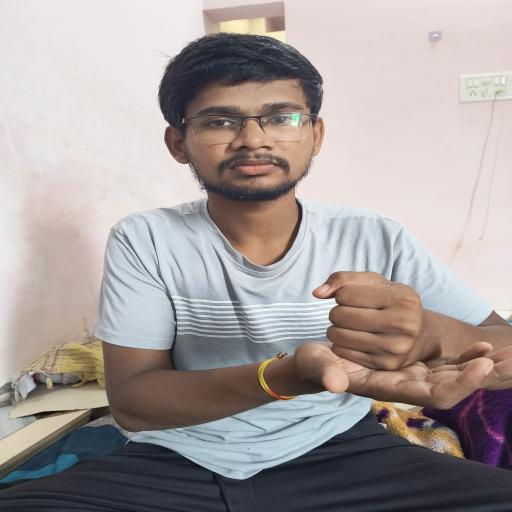Next: (277, 256, 512, 427)
